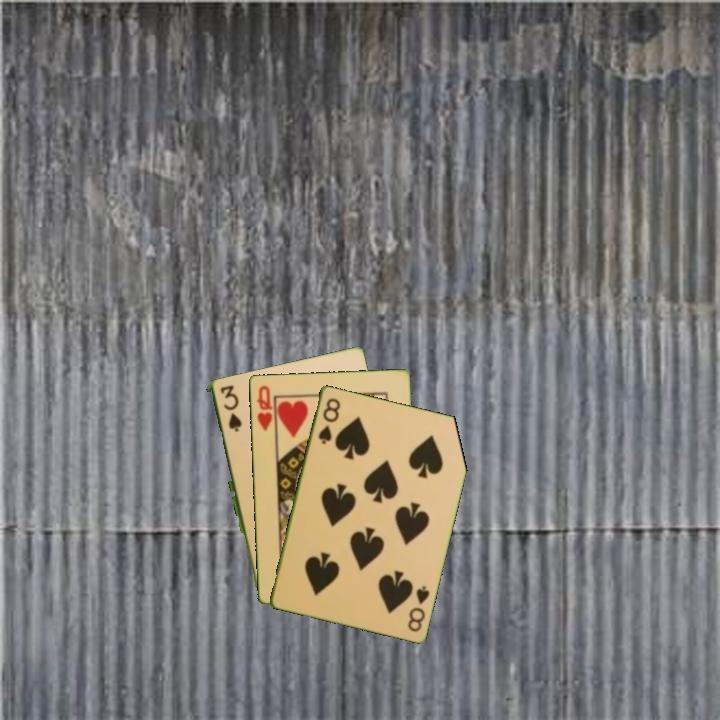3s: (216, 382, 242, 434)
8s: (314, 394, 343, 447), (404, 582, 432, 634)
Qh: (253, 381, 275, 434)
